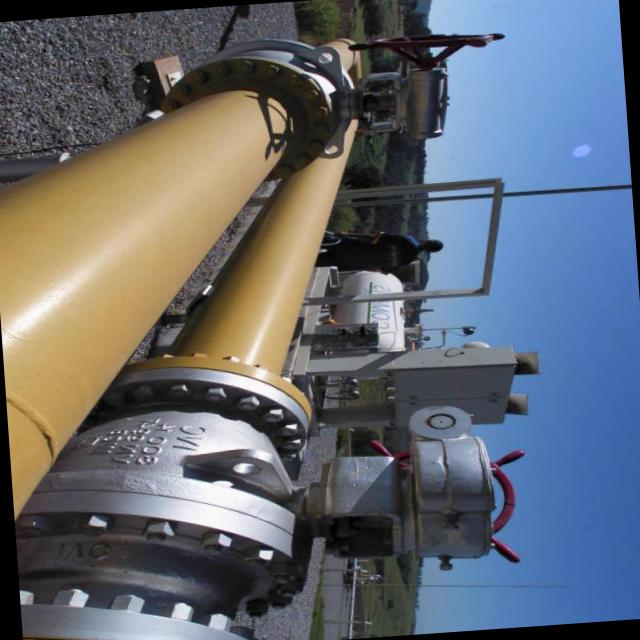gas: (0, 37, 355, 513), (33, 123, 358, 638)
